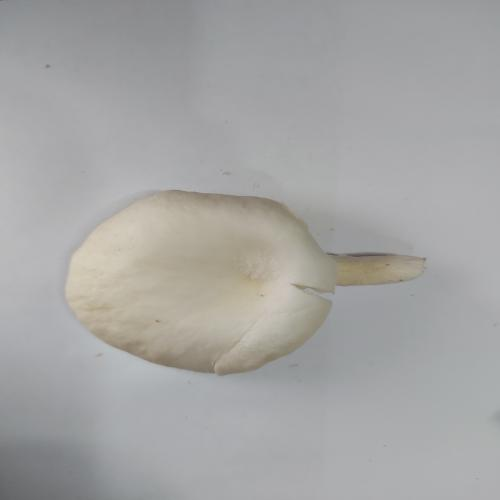Oyster Mushroom: (64, 188, 426, 376)
